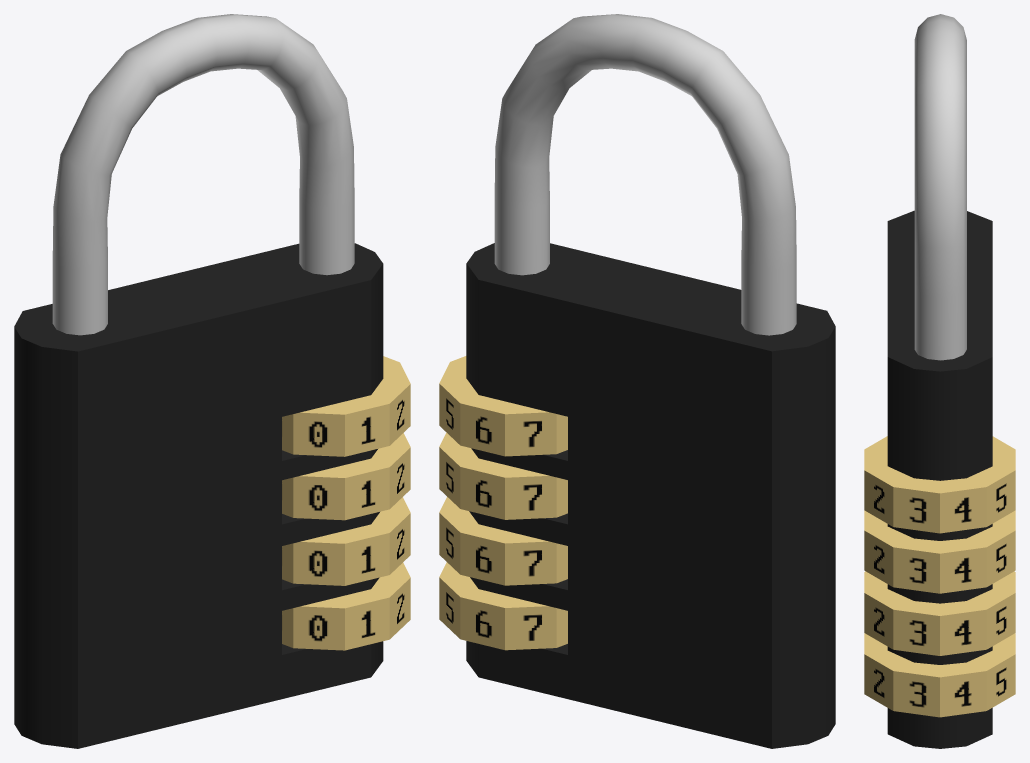
File: four_digit_lock_level2.fbx
3 renders of one model, left to right at view 1: azimuth 30°, elevation 25°; view 2: azimuth 150°, elevation 25°; view 3: azimuth 270°, elevation 25°, orthographic. The views are drawn at different scales.
Parts seen in each view (by area): view 1: Box001, Cylinder001, Cylinder002, Cylinder004, Cylinder005, Cylinder003; view 2: Box001, Cylinder001, Cylinder002, Cylinder004, Cylinder005, Cylinder003; view 3: Box001, Cylinder001, Cylinder002, Cylinder004, Cylinder005, Cylinder003.
Part boxes in pixels (x1,y1,x2,y2): Box001: [14, 243, 383, 748]; Cylinder001: [52, 14, 354, 335]; Cylinder002: [282, 356, 410, 456]; Cylinder004: [282, 497, 410, 585]; Cylinder005: [282, 562, 410, 650]; Cylinder003: [282, 433, 410, 520]; Box001: [466, 243, 835, 748]; Cylinder001: [494, 14, 796, 335]; Cylinder002: [439, 356, 567, 456]; Cylinder004: [439, 497, 567, 585]; Cylinder005: [439, 562, 567, 650]; Cylinder003: [439, 432, 567, 519]; Box001: [887, 210, 992, 748]; Cylinder001: [914, 14, 966, 360]; Cylinder002: [864, 436, 1015, 533]; Cylinder004: [864, 571, 1015, 655]; Cylinder005: [864, 633, 1015, 717]; Cylinder003: [864, 510, 1015, 593].
Size of the model in its own units: 2.95 by 1.08 by 5.
Materials: 2 (2 with a texture image).
